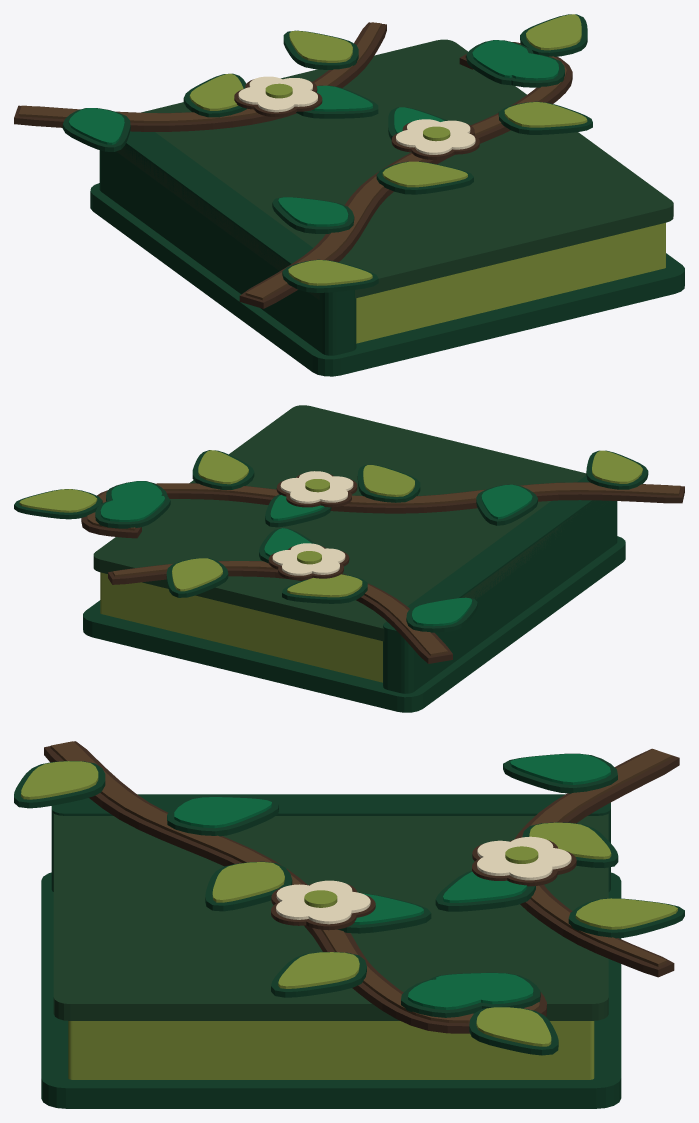
File: book_trepadeira.fbx
3 views of the same model, one above another, from view 1: azimuth 30°, elevation 25°; view 2: azimuth 150°, elevation 25°; view 3: azimuth 270°, elevation 25° (orthographic). The views are drawn at different scales.
Parts seen in each view (by area): view 1: book_trepadeira_livro, book_trepadeira; view 2: book_trepadeira_livro, book_trepadeira; view 3: book_trepadeira_livro, book_trepadeira.
Boxes of the visible parts, bbox=[...] form: book_trepadeira_livro: bbox=[14, 22, 684, 376]; book_trepadeira: bbox=[62, 14, 592, 292]; book_trepadeira_livro: bbox=[81, 405, 684, 712]; book_trepadeira: bbox=[14, 450, 648, 632]; book_trepadeira_livro: bbox=[41, 741, 679, 1108]; book_trepadeira: bbox=[14, 753, 684, 1055].
Size of the model in its own units: 3.61 by 0.687 by 3.24.
1 material, 1 textured.
